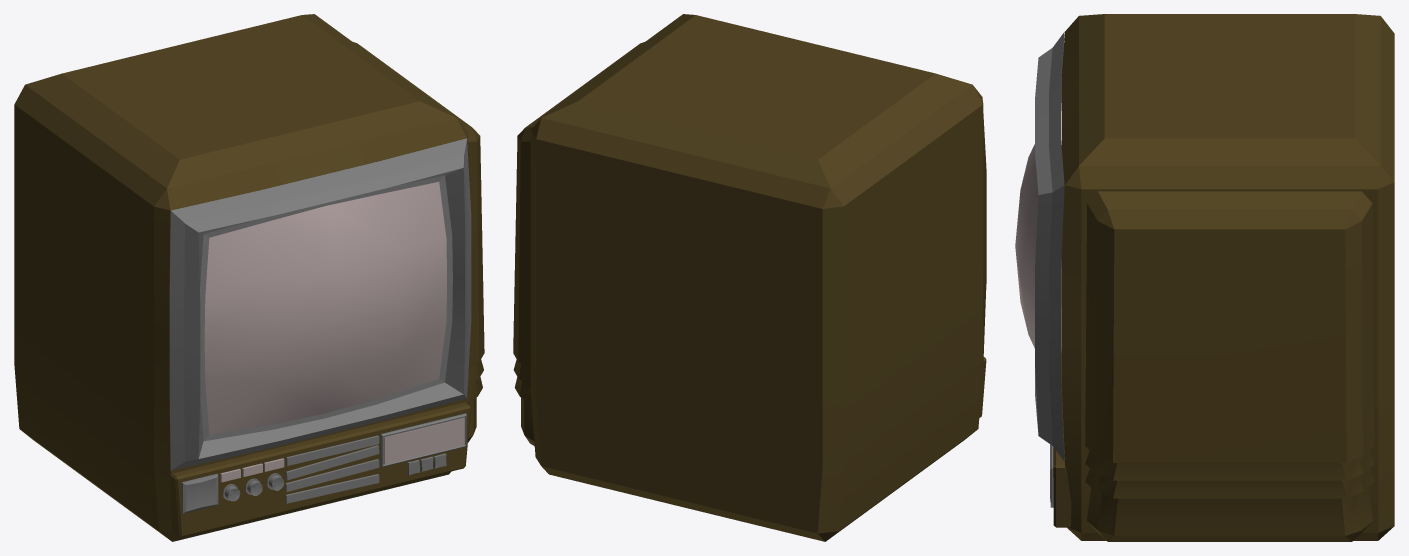
Rendered from TVOld.glb.
3 views of the same model, side by side, from view 1: azimuth 30°, elevation 25°; view 2: azimuth 150°, elevation 25°; view 3: azimuth 270°, elevation 25° (orthographic). The views are drawn at different scales.
Parts seen in each view (by area): view 1: pCube46, screen_light, pCube7, pCube9, pCube44, pCube21, pCube10, pCube30, pCube40, pCube33, pCube32, pCube22; view 2: pCube46, pCube44; view 3: pCube44, pCube46, pCube7, screen_light, pCube9.
Part boxes in pixels (<box>): pCube46: <box>14,14,469,541</box>; screen_light: <box>204,182,446,434</box>; pCube7: <box>169,138,471,470</box>; pCube9: <box>170,402,470,537</box>; pCube44: <box>353,42,484,442</box>; pCube21: <box>384,418,464,464</box>; pCube10: <box>181,474,218,513</box>; pCube30: <box>285,459,379,491</box>; pCube40: <box>285,474,379,503</box>; pCube33: <box>285,445,379,480</box>; pCube32: <box>286,435,379,465</box>; pCube22: <box>380,413,466,467</box>; pCube46: <box>530,14,986,541</box>; pCube44: <box>513,42,644,445</box>; pCube44: <box>1085,191,1374,541</box>; pCube46: <box>1061,14,1394,540</box>; pCube7: <box>1035,32,1064,461</box>; screen_light: <box>1015,144,1038,348</box>; pCube9: <box>1053,349,1071,527</box>.
Size of the model in its own units: 39.02 by 39.92 by 34.92.
